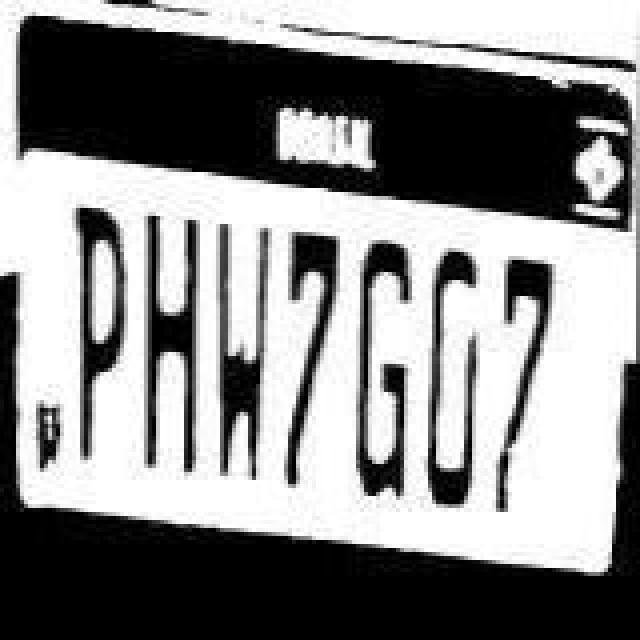7: (494, 254, 558, 514), (284, 226, 344, 494)
D: (422, 244, 494, 516)
G: (354, 232, 426, 504)
H: (136, 212, 204, 460)
P: (68, 210, 136, 462)
W: (212, 220, 280, 484)
